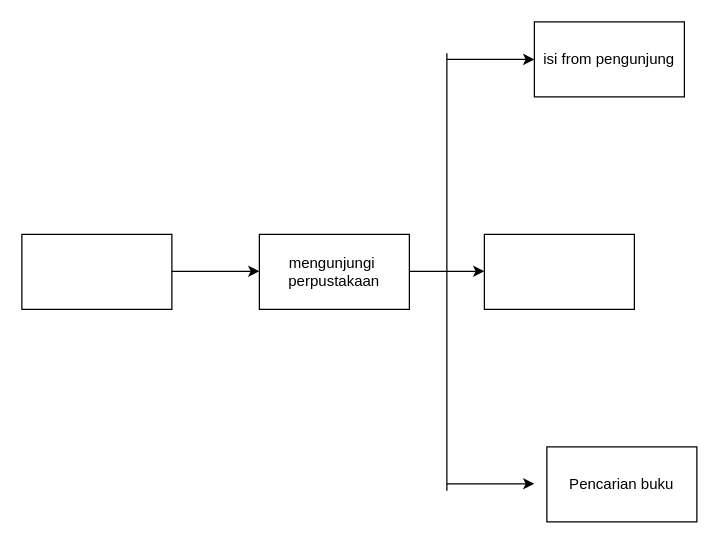
This 719x544 diagram has some shape labels left out. Here are the shapes that lost their labels. From the top down, the box of each, then its label:
(21, 233, 172, 309): kamu
(483, 233, 634, 309): lihat daftar pengunjung
